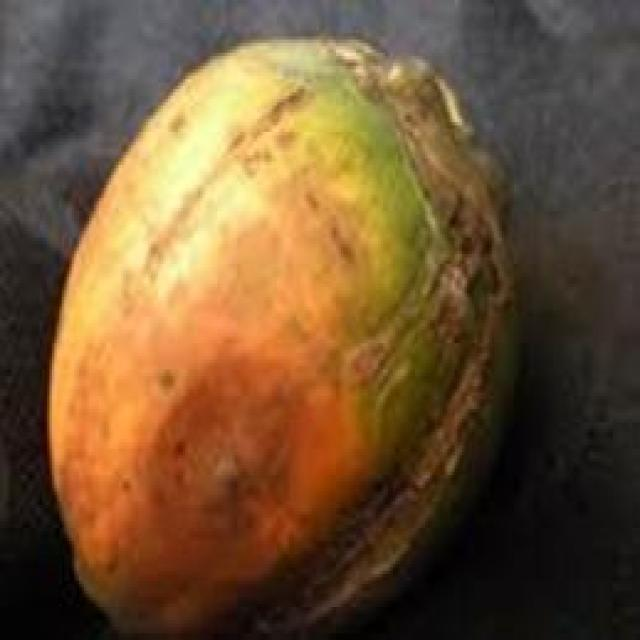good: (42, 36, 526, 637)
